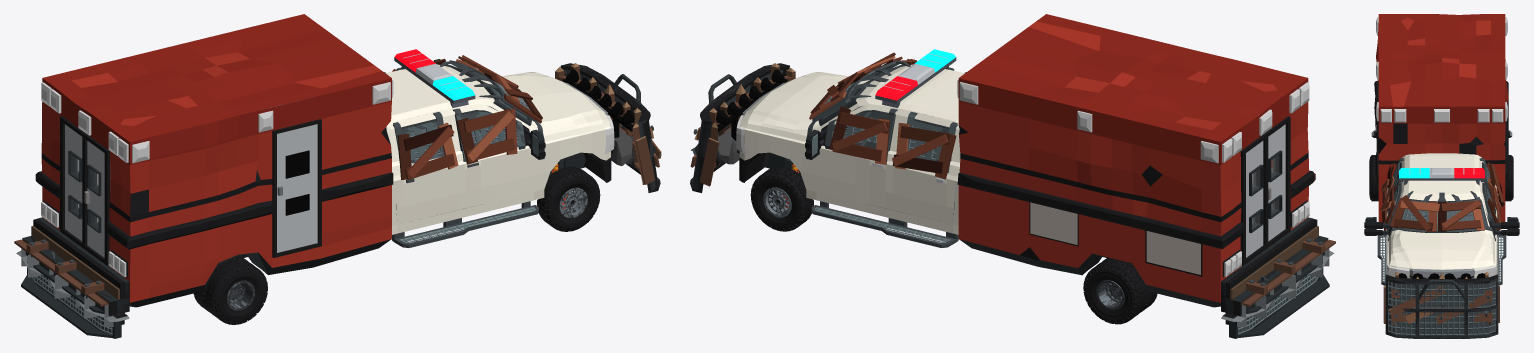
The model's file is Ambulace.fbx.
3 views of the same model, side by side, from view 1: azimuth 30°, elevation 25°; view 2: azimuth 150°, elevation 25°; view 3: azimuth 270°, elevation 25° (orthographic). The views are drawn at different scales.
Parts seen in each view (by area): view 1: Ambulance_Cubin, Cubin_Sede_Door, Cabin.001, Front_Doors_Right, Rear_Bumper.002, Rear_Doors_Right, Kapot.001, Tire.003, Rear_Bumper_Grid, Front_Side_Cubin.001, Cubin_Rear_Doors_Right_01, Front_Boards_window_Right (+18 smaller); view 2: Ambulance_Cubin, Cabin.001, Side_Mirror_Left, Rear_Bumper.002, Rear_Doors_Left, Kapot.001, Rear_Bumper_Grid, Front_Side_Cubin.001, Rear_Boards_Window_left, Tire.013, Cubin_Rear_Doors_Left, Cubin_Rear_Doors_Right_01 (+17 smaller); view 3: Ambulance_Cubin, Front_Bumper.001, Front_Bumper_Grid, Kapot.001, Cabin.001, Front_Boards_window, Front_Bumper_Boards, Cubin_Strobe_Lights, Front_Side_Cubin.001, Front_Window.002, Running_Board, Side_Mirror_Left (+14 smaller).
Boxes of the visible parts, box(x1,y1,x2,y2) form: Ambulance_Cubin: box(35, 14, 393, 307); Cubin_Sede_Door: box(272, 119, 321, 257); Cabin.001: box(385, 64, 550, 234); Front_Doors_Right: box(445, 104, 545, 209); Rear_Bumper.002: box(14, 218, 129, 326); Rear_Doors_Right: box(390, 110, 457, 224); Kapot.001: box(485, 72, 608, 129); Tire.003: box(193, 255, 267, 324); Rear_Bumper_Grid: box(21, 218, 129, 338); Front_Side_Cubin.001: box(522, 72, 611, 182); Cubin_Rear_Doors_Right_01: box(83, 133, 110, 265); Front_Boards_window_Right: box(453, 108, 525, 164); Ambulance_Cubin: box(957, 14, 1315, 307); Cabin.001: box(800, 64, 964, 234); Side_Mirror_Left: box(805, 103, 904, 209); Rear_Bumper.002: box(1221, 218, 1335, 326); Rear_Doors_Left: box(893, 110, 959, 224); Kapot.001: box(741, 72, 864, 129); Rear_Bumper_Grid: box(1221, 219, 1329, 338); Front_Side_Cubin.001: box(739, 72, 828, 197); Rear_Boards_Window_left: box(892, 112, 957, 179); Tire.013: box(751, 167, 812, 231); Cubin_Rear_Doors_Left: box(1240, 133, 1266, 265); Cubin_Rear_Doors_Right_01: box(1265, 116, 1290, 248); Ambulance_Cubin: box(1374, 14, 1508, 221); Front_Bumper.001: box(1385, 274, 1498, 338); Front_Bumper_Grid: box(1385, 274, 1498, 338); Kapot.001: box(1392, 233, 1491, 269); Cabin.001: box(1386, 153, 1497, 250); Front_Boards_window: box(1388, 192, 1486, 240); Front_Bumper_Boards: box(1383, 272, 1499, 325); Cubin_Strobe_Lights: box(1399, 168, 1484, 184); Front_Side_Cubin.001: box(1386, 234, 1497, 278); Front_Window.002: box(1388, 191, 1495, 241); Running_Board: box(1377, 234, 1506, 285); Side_Mirror_Left: box(1479, 180, 1519, 257).
Bounding box in the file's own units: 865 × 297 × 278.
